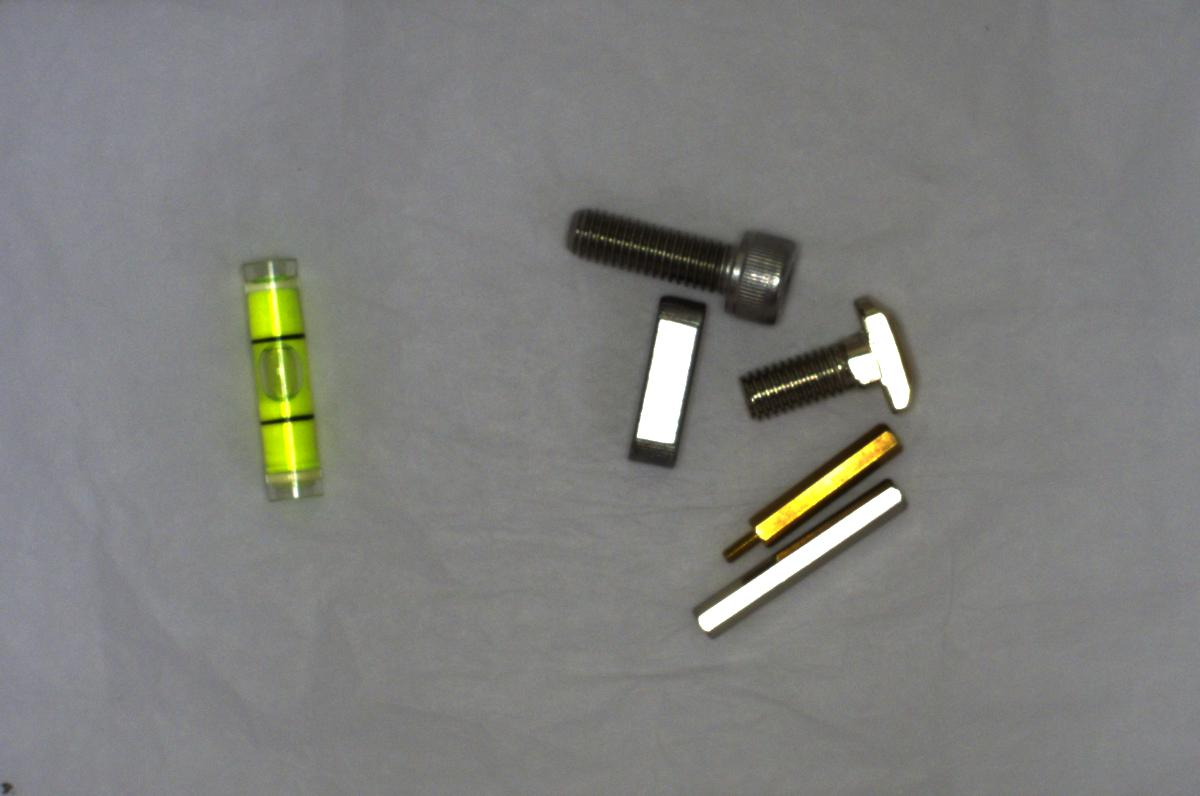Double hexagonal column: (678, 477, 920, 649)
Hexagon pillar: (714, 419, 908, 565)
Hexagon screw: (555, 206, 812, 327)
Horizontal bubble: (223, 245, 337, 521)
Keybar: (620, 289, 715, 464)
T-shaped screw: (739, 287, 924, 430)
